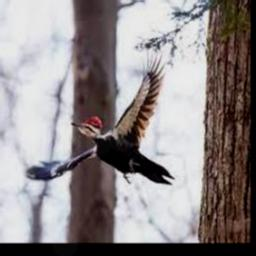Woodpecker: (24, 51, 174, 184)
